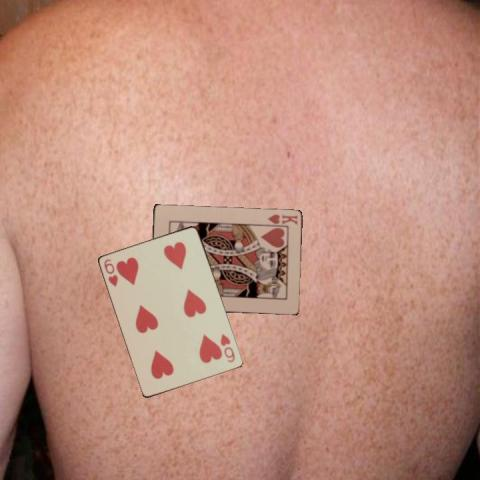6h: (217, 331, 237, 364), (102, 256, 119, 288)
Kh: (264, 211, 298, 227)
